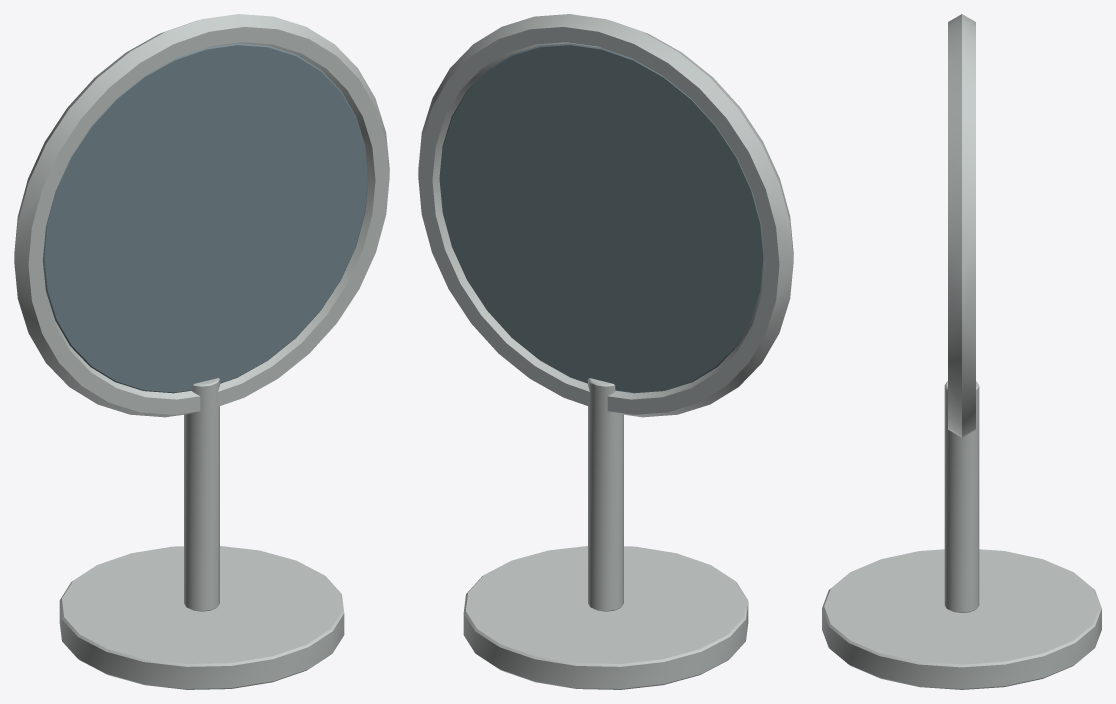
Rendered from mirror-round.glb.
3 renders of one model, left to right at view 1: azimuth 30°, elevation 25°; view 2: azimuth 150°, elevation 25°; view 3: azimuth 270°, elevation 25°, orthographic. The views are drawn at different scales.
Visible parts, largest first — view 1: mirror_glass, mirror_stand_base, round_frame, mirror_neck; view 2: mirror_glass, mirror_stand_base, round_frame, mirror_neck; view 3: mirror_stand_base, round_frame, mirror_neck.
Boxes of the visible parts, x1,y1,x2,y2 form: mirror_glass: (43, 43, 368, 393); mirror_stand_base: (59, 546, 344, 689); round_frame: (14, 14, 389, 417); mirror_neck: (184, 378, 219, 611); mirror_glass: (439, 43, 764, 393); mirror_stand_base: (463, 546, 748, 689); round_frame: (418, 14, 793, 417); mirror_neck: (588, 378, 623, 611); mirror_stand_base: (822, 549, 1101, 689); round_frame: (948, 14, 975, 437); mirror_neck: (944, 381, 979, 612).
Size of the model in its own units: 0.606 by 0.943 by 0.4.
